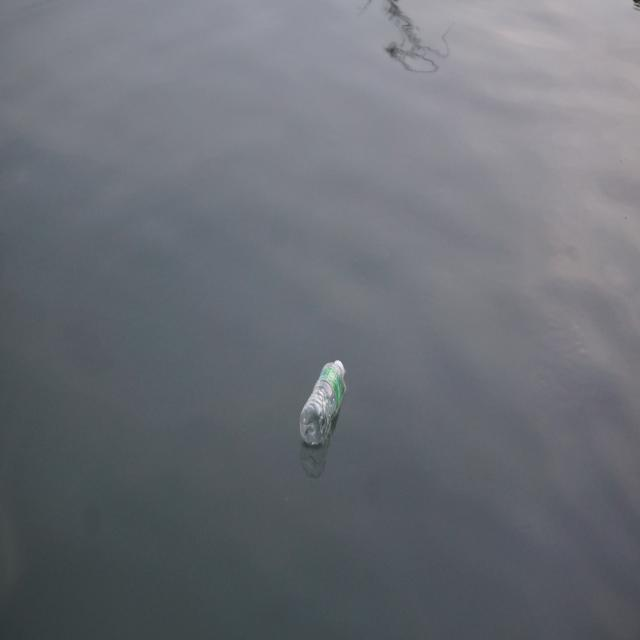Botol Plastik: (298, 355, 349, 453)
